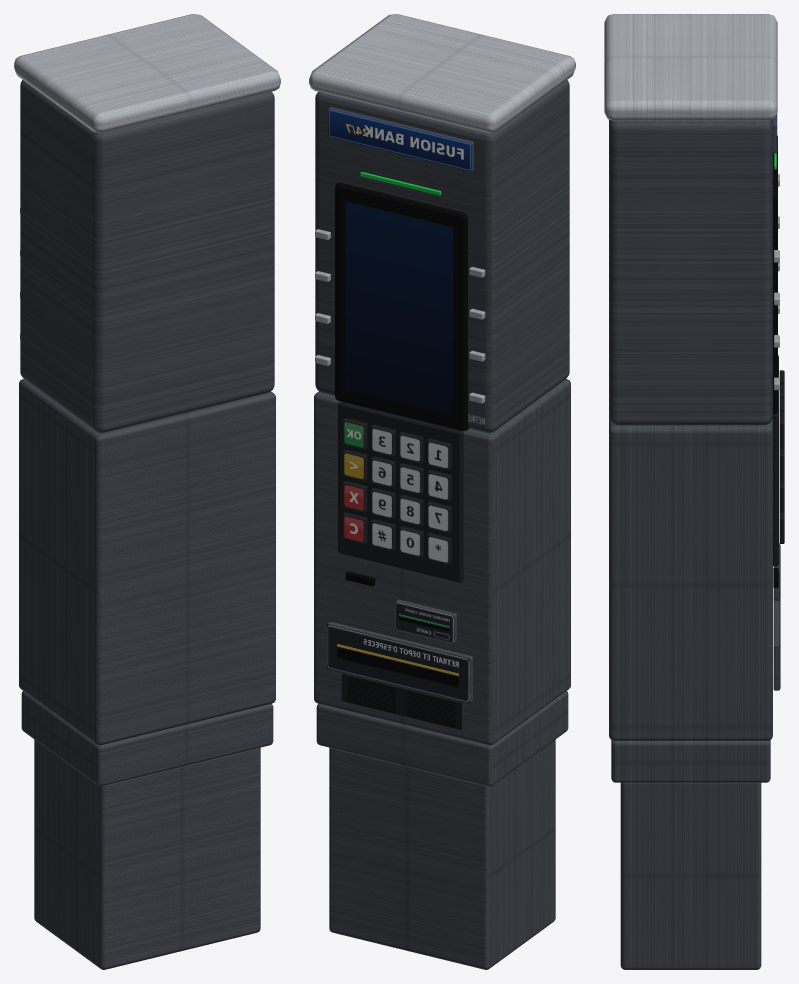
File: ATM.obj
The picture shows the model from 3 angles, left to right: view 1: azimuth 30°, elevation 25°; view 2: azimuth 150°, elevation 25°; view 3: azimuth 270°, elevation 25°; orthographic projection.
Size of the model in its own units: 0.47 by 2.06 by 0.385.
Materials: 16 (11 with a texture image).
